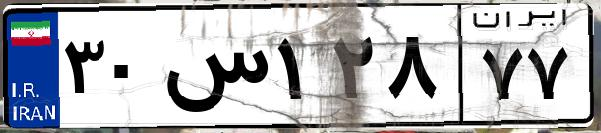0: (110, 28, 158, 98)
1: (270, 28, 330, 110)
2: (330, 28, 385, 110)
3: (57, 26, 110, 100)
7: (475, 38, 525, 113), (525, 38, 570, 115)
8: (385, 28, 445, 110)
س: (158, 20, 270, 120)
